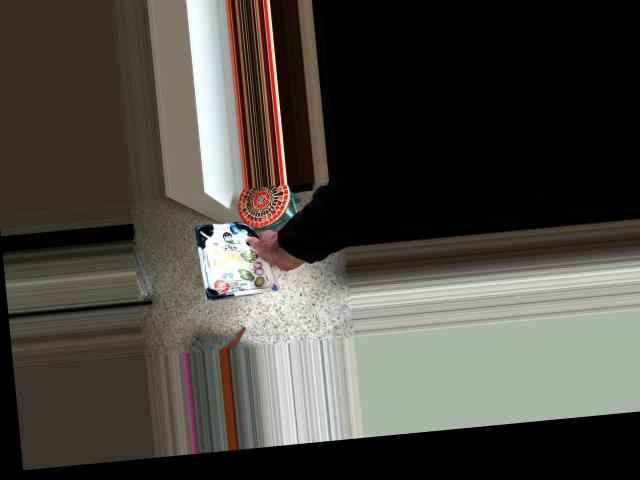cheese: (197, 207, 301, 310)
